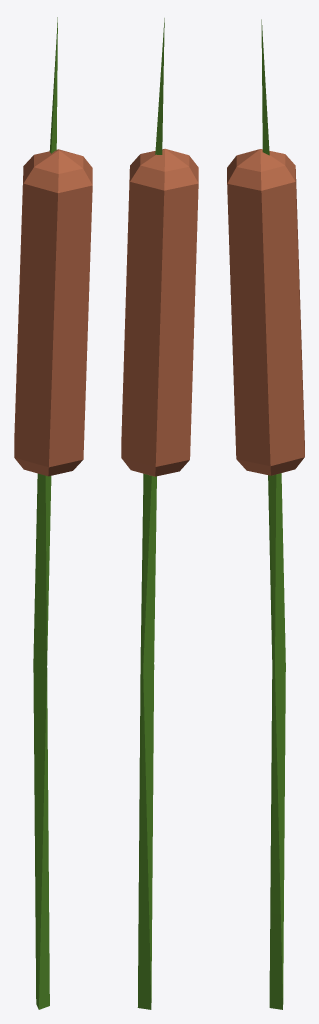
File: Hilly_Prop_Cattail_2.obj
The picture shows the model from 3 angles, left to right: view 1: azimuth 90°, elevation 25°; view 2: azimuth 150°, elevation 25°; view 3: azimuth 270°, elevation 25°; orthographic projection.
Visible parts, largest first — view 1: object2, object1; view 2: object2, object1; view 3: object2, object1.
Boxes of the visible parts, x1,y1,x2,y2 form: object2: (14, 149, 92, 476); object1: (33, 17, 57, 1009); object2: (121, 148, 198, 476); object1: (137, 18, 164, 1009); object2: (227, 149, 304, 475); object1: (261, 19, 285, 1009).
Size of the model in its own units: 0.0737 by 0.9584 by 0.0683.
